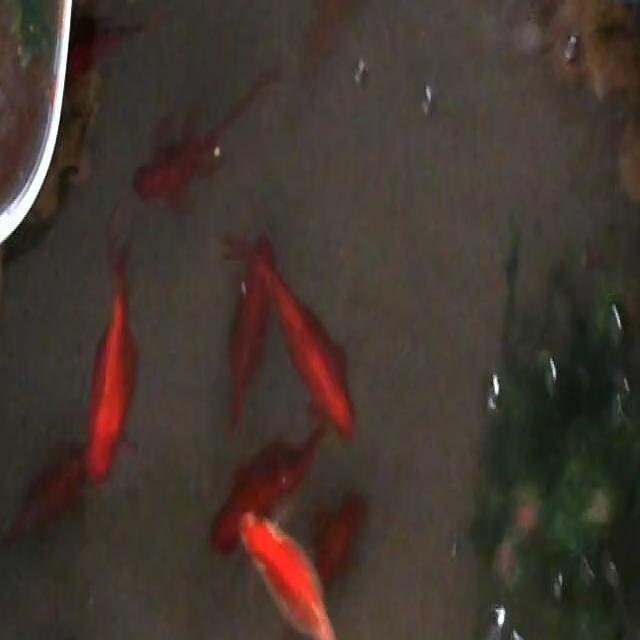fish: (0, 236, 145, 550), (219, 232, 355, 444), (130, 65, 282, 214), (231, 501, 379, 640), (207, 409, 335, 555), (64, 8, 147, 84), (298, 0, 361, 82)
